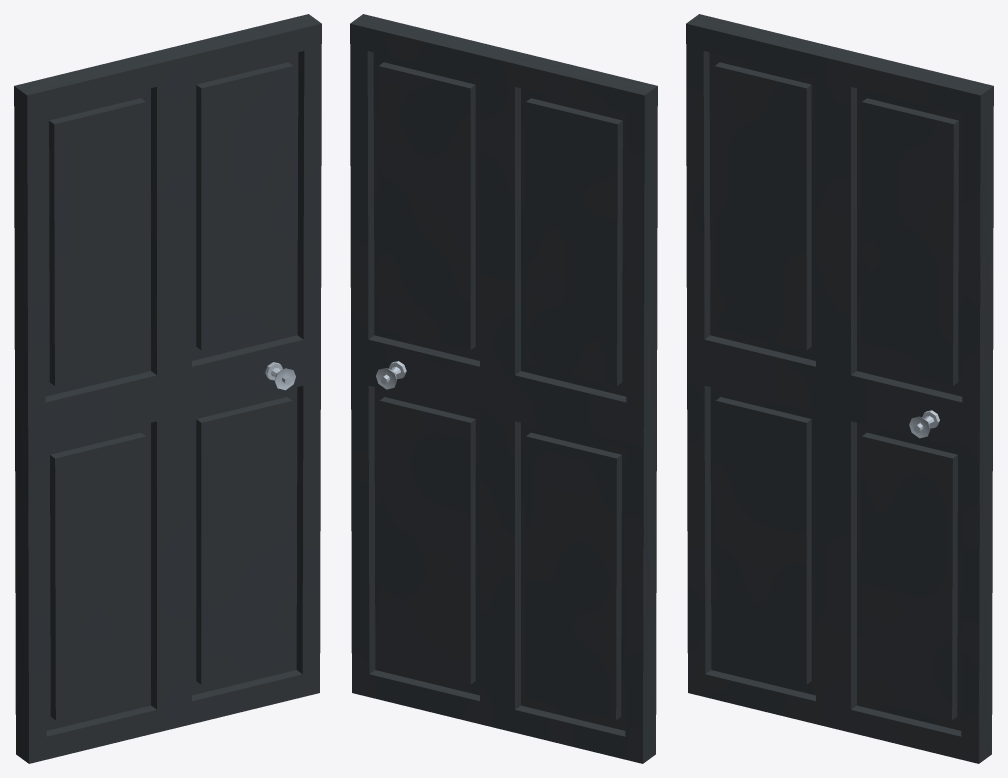
Rendered from Door_03.fbx.
3 views of the same model, side by side, from view 1: azimuth 30°, elevation 25°; view 2: azimuth 150°, elevation 25°; view 3: azimuth 330°, elevation 25° (orthographic).
Parts seen in each view (by area): view 1: Door_03; view 2: Door_03; view 3: Door_03.
Boxes of the visible parts, box(x1,y1,x2,y2) form: Door_03: box(14, 14, 321, 763); Door_03: box(350, 14, 657, 763); Door_03: box(686, 14, 993, 763).
Size of the model in its own units: 0.9005 by 1.95 by 0.2289.
